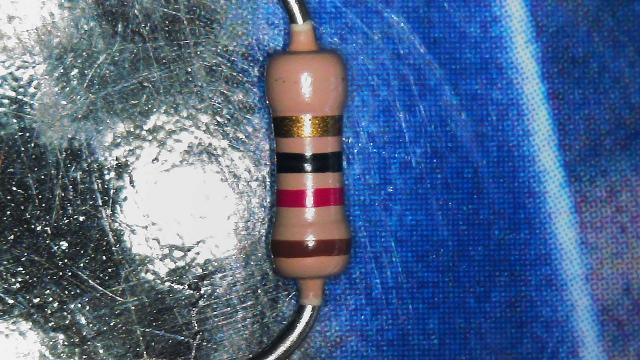black: (276, 153, 344, 173)
brown: (272, 240, 350, 257)
gold: (274, 116, 348, 138)
red: (276, 190, 346, 206)
resistor: (247, 25, 368, 302)
